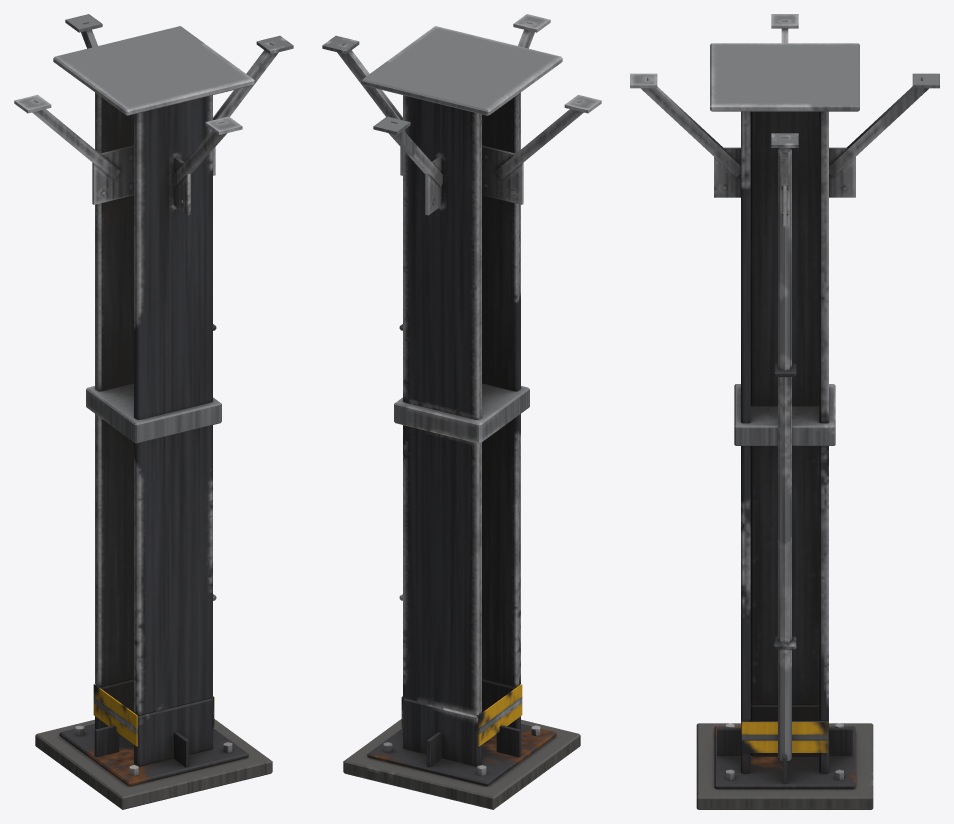
File: nodexeus-set-post-5.glb
3 renders of one model, left to right at view 1: azimuth 30°, elevation 25°; view 2: azimuth 150°, elevation 25°; view 3: azimuth 270°, elevation 25°, orthographic.
Parts seen in each view (by area): view 1: set-post-5; view 2: set-post-5; view 3: set-post-5.
Part boxes in pixels (x1,y1,x2,y2): set-post-5: (14, 14, 293, 809); set-post-5: (322, 14, 601, 809); set-post-5: (630, 14, 939, 809).
Size of the model in its own units: 2.71 by 6.75 by 2.71.
Materials: 1 (1 with a texture image).
